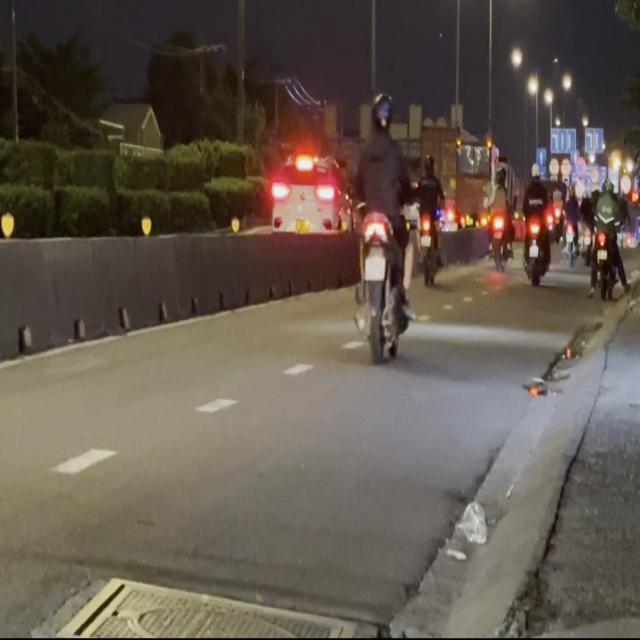helmet: (369, 91, 392, 132)
licenseplate: (348, 89, 414, 361)
nohelmet: (364, 256, 384, 279)
